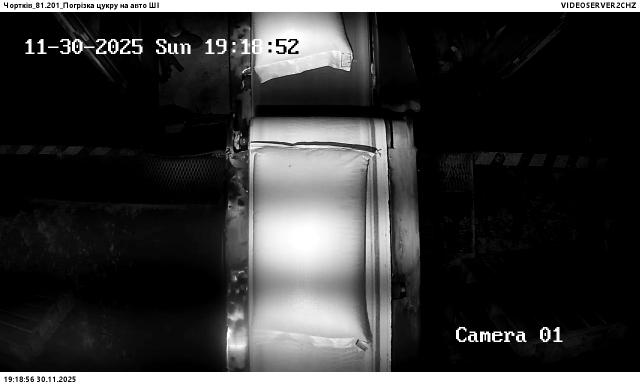bag: (250, 140, 377, 354), (252, 13, 354, 84)
